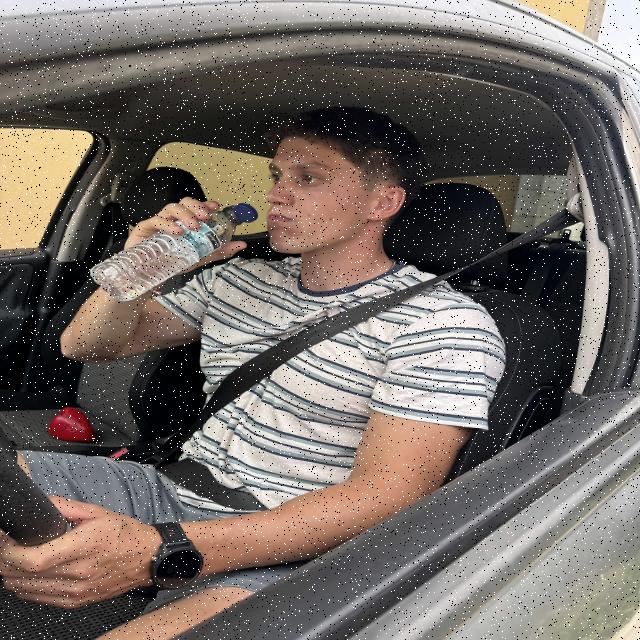Drinking: (86, 200, 262, 305)
Seatbelt: (153, 256, 499, 514)
